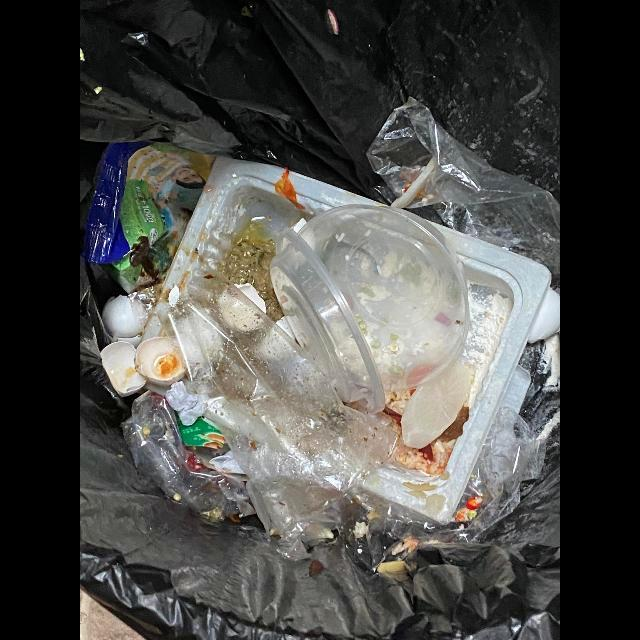food_wrapper: (84, 141, 216, 294)
left_over_food: (224, 221, 284, 322)
plastic_bag: (169, 285, 397, 539), (367, 98, 560, 289), (120, 391, 256, 523)
